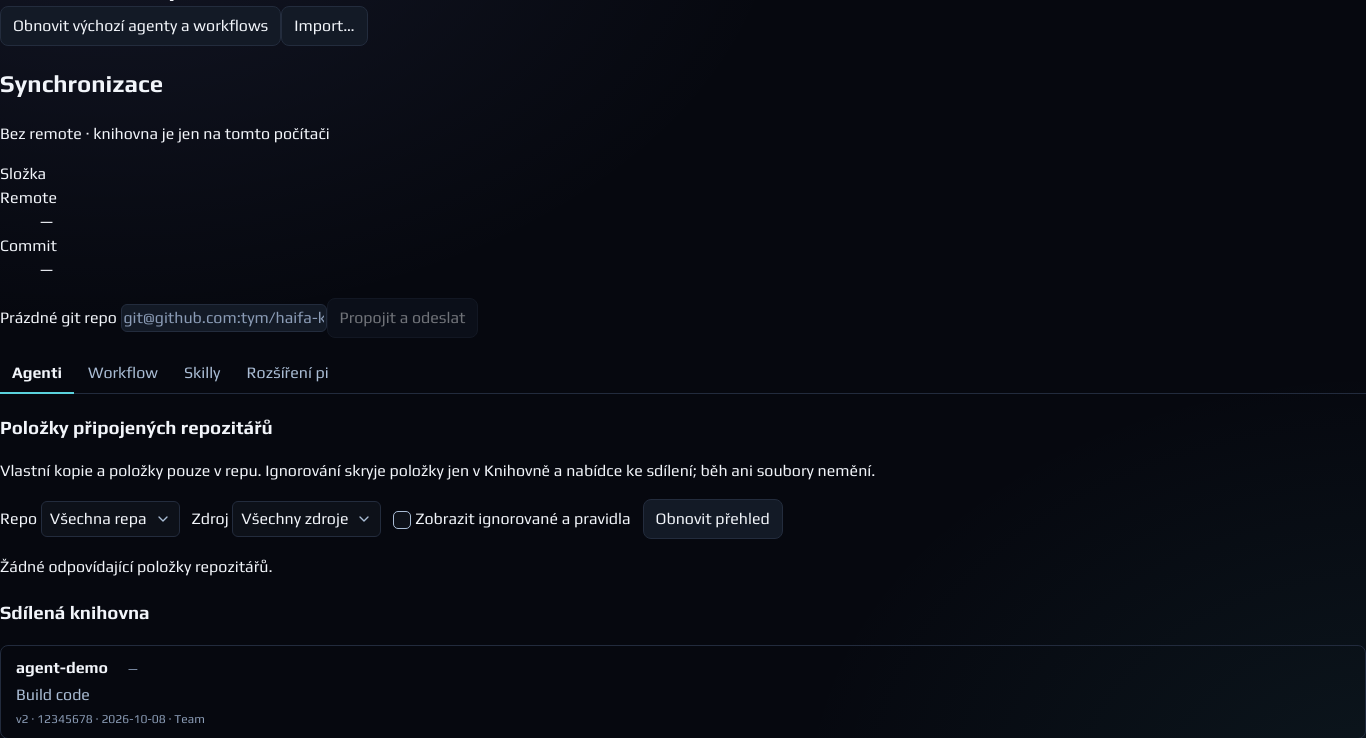
Scenario: LibrarySection › imports a folder only after preview and confirmation, without uploading content
The width and height of the screenshot is (1366, 738).
Click the button "agent-demo — Build code v2 · 12345678 · 2026-10-08 · Team" at {"x": 62, "y": 667}, box [4,646,1365,737]
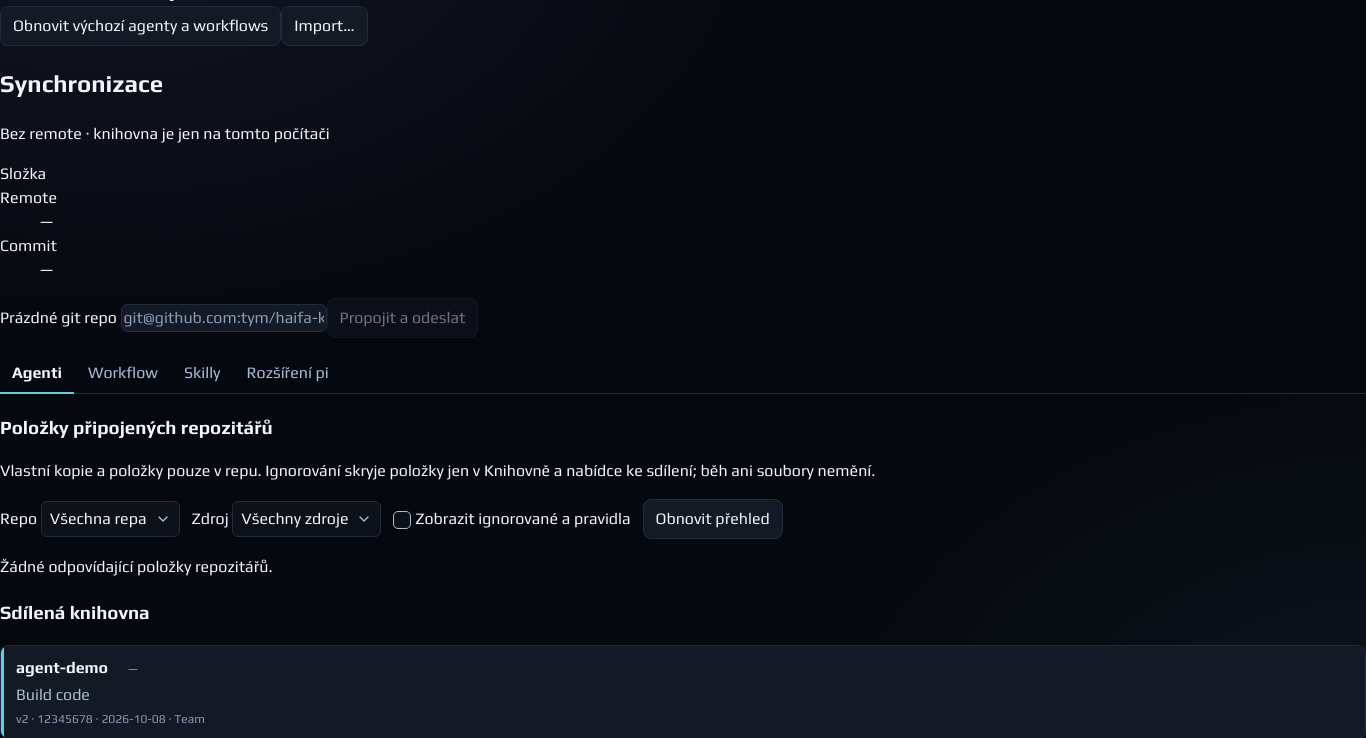
Click the button with test id "library-import" at {"x": 324, "y": 26}, box [281,6,368,46]
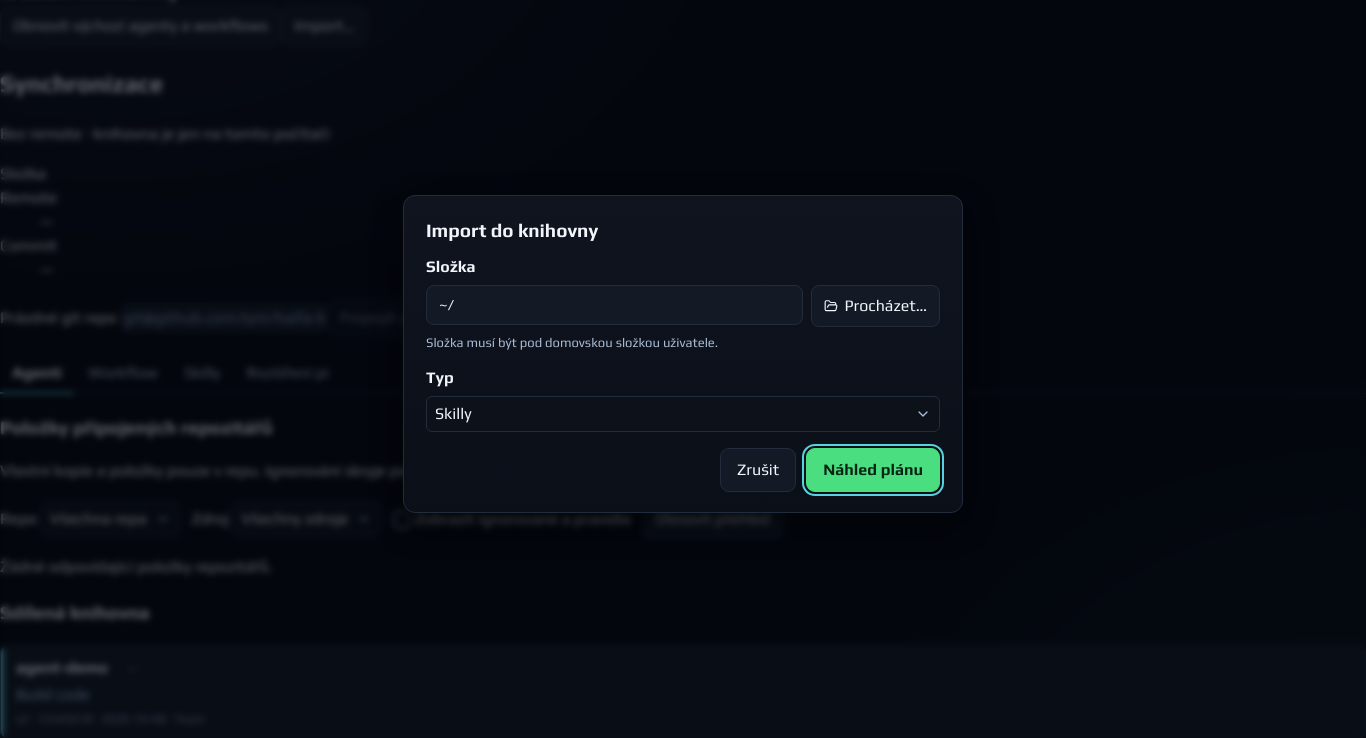
Replace the text in the dropdown with test id "import-path" with "~/skills/demo" at {"x": 615, "y": 305}, box [426,284,803,325]
Press Enter in the dropdown with test id "import-type", box [426,396,940,432]
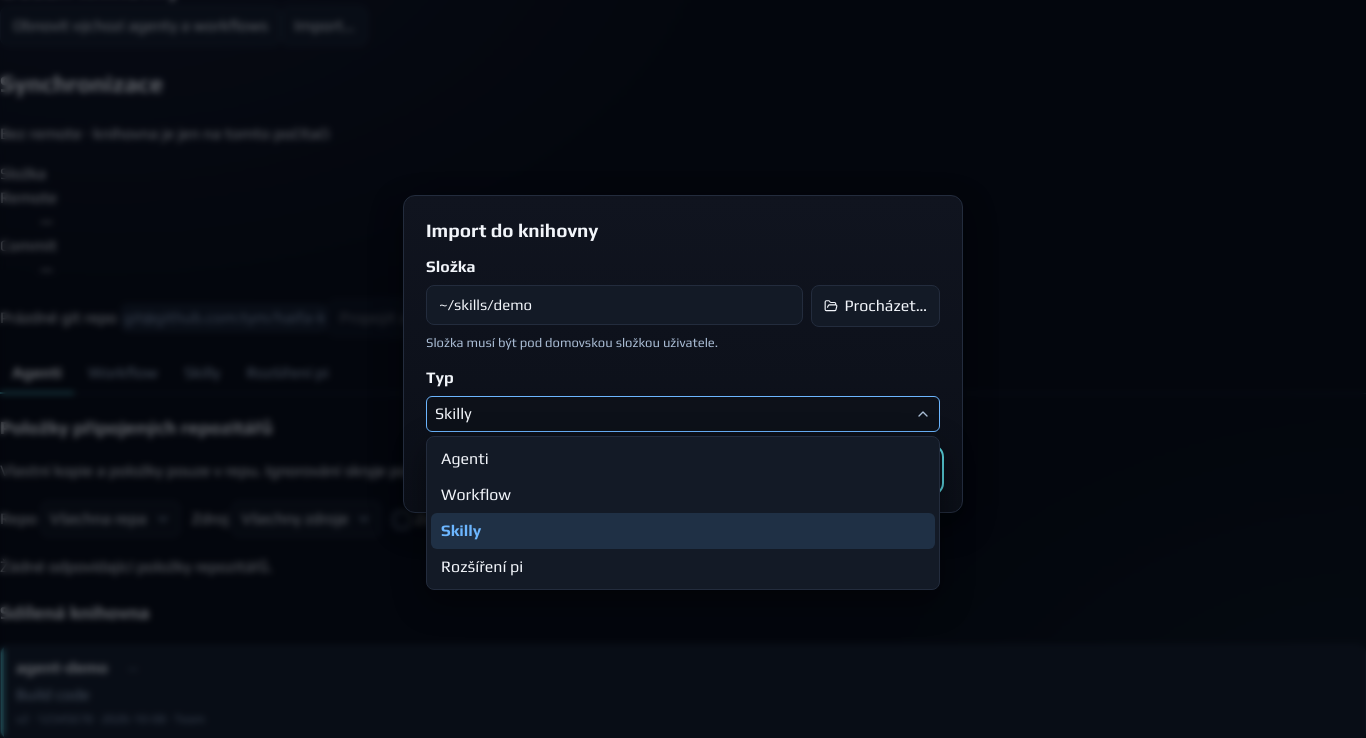
Press ArrowDown in the dropdown with test id "import-type", box [426,396,940,432]
Press Enter in the dropdown with test id "import-type", box [426,396,940,432]
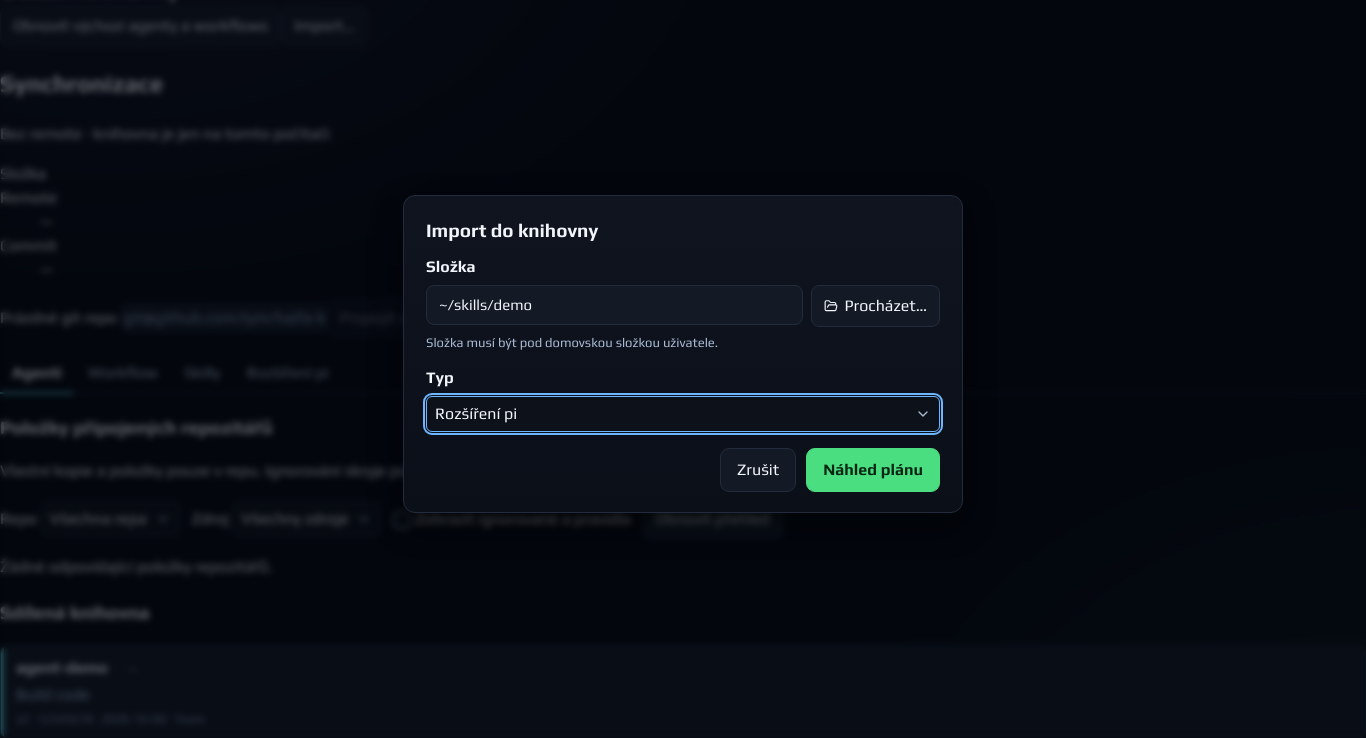
Expected: the dropdown with test id "import-type" has attribute data-value="extension", [426,396,940,432]
Click the button with test id "confirm-ok" at {"x": 873, "y": 470}, box [806,448,940,492]
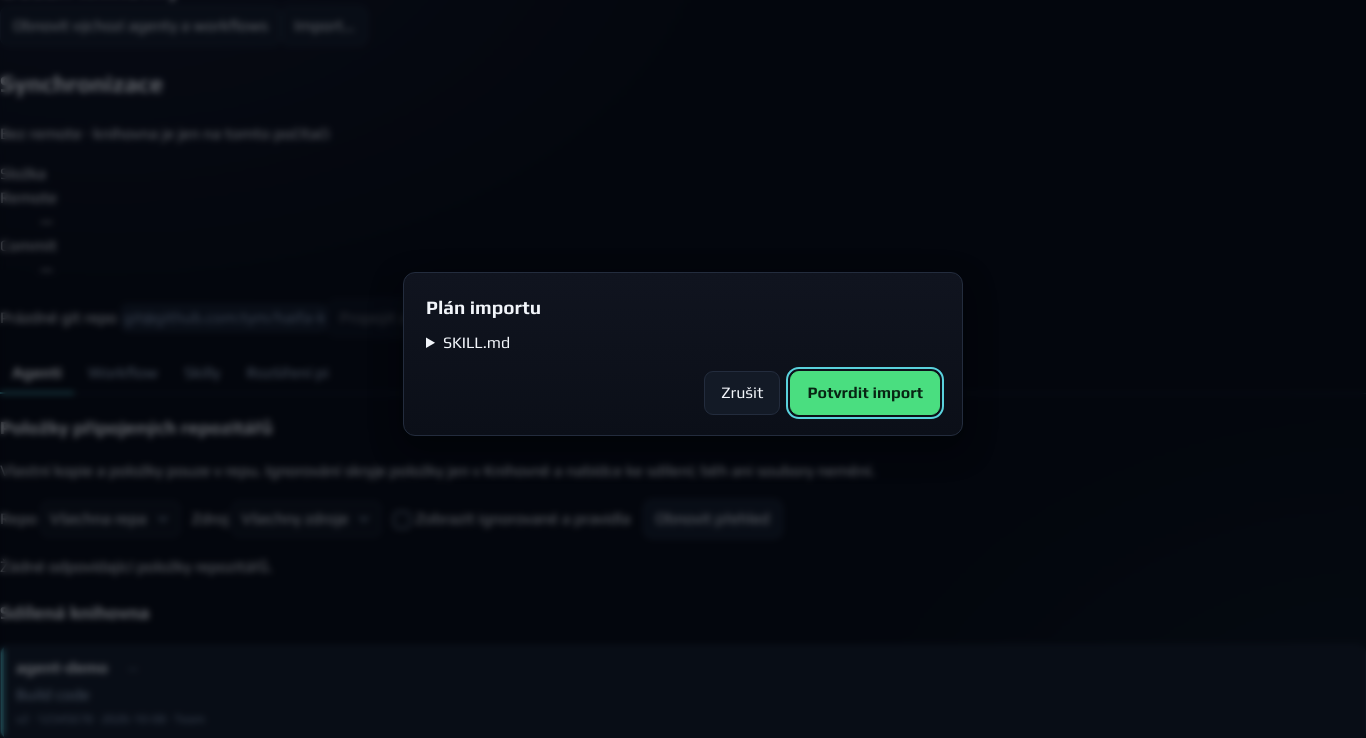
Click the button with test id "confirm-ok" at {"x": 865, "y": 393}, box [790,371,940,415]
(page scrolled)
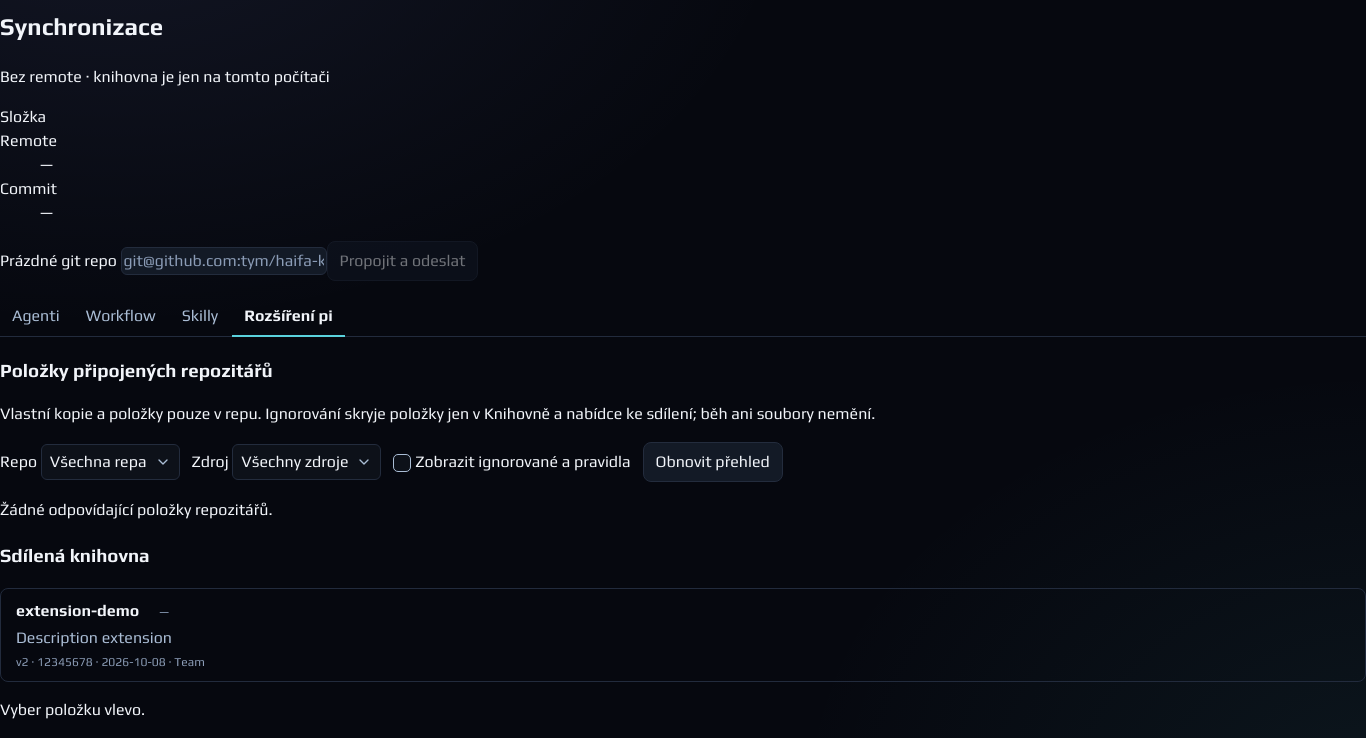
Expected: the list item with test id "library-item" shows "extension-demo", [4,589,1365,681]
